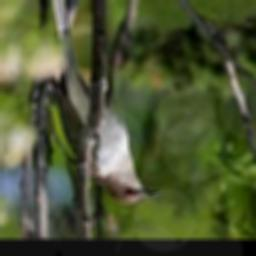Cuckoo: (48, 0, 160, 205)
